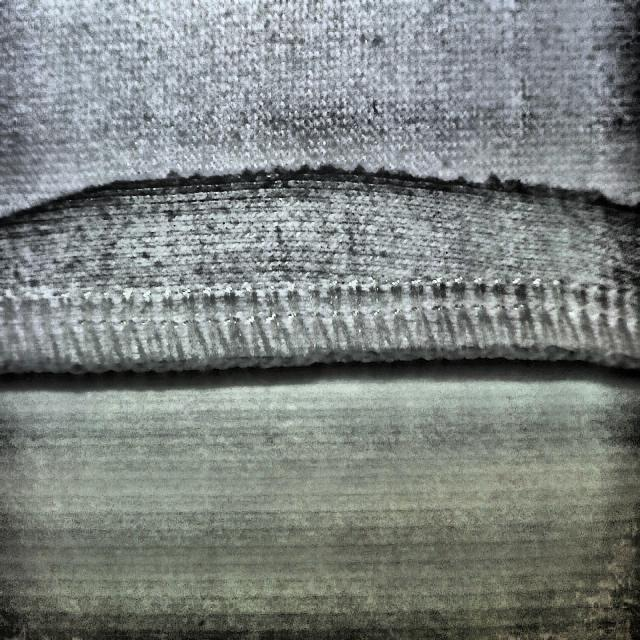gray stitch: (23, 98, 640, 376)
